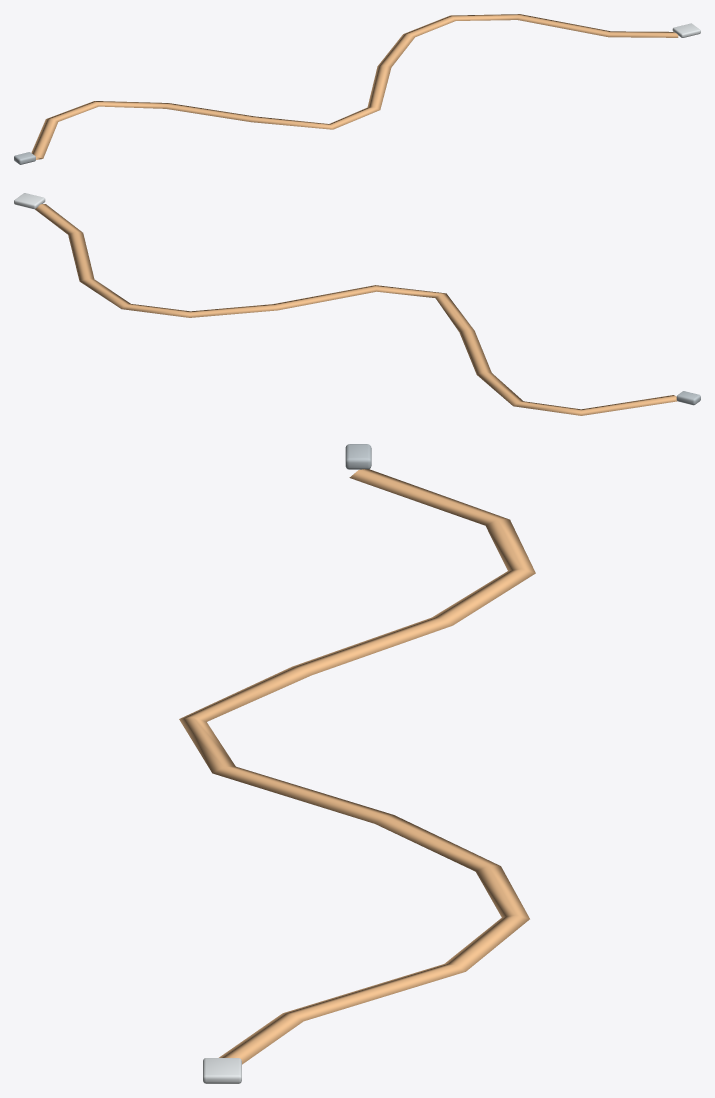
File: debris_strap.glb
3 renders of one model, top to bottom at view 1: azimuth 30°, elevation 25°; view 2: azimuth 150°, elevation 25°; view 3: azimuth 270°, elevation 25°, orthographic. The views are drawn at different scales.
Parts seen in each view (by area): view 1: strap_webbing_strap_orange, buckle_trim_steel; view 2: strap_webbing_strap_orange; view 3: strap_webbing_strap_orange, buckle_trim_steel.
Boxes of the visible parts, left/top/right/bottom form: strap_webbing_strap_orange: left=31, top=14, right=678, bottom=159; buckle_trim_steel: left=672, top=23, right=700, bottom=37; strap_webbing_strap_orange: left=35, top=204, right=677, bottom=415; strap_webbing_strap_orange: left=179, top=469, right=535, bottom=1064; buckle_trim_steel: left=203, top=1058, right=241, bottom=1083.
Size of the model in its own units: 2.29 by 0.0245 by 0.549.
